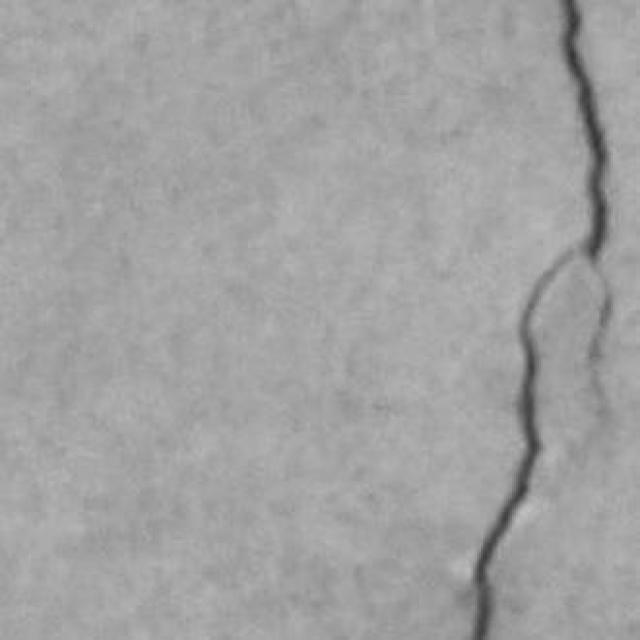crack: (472, 0, 612, 639), (474, 251, 574, 639)
